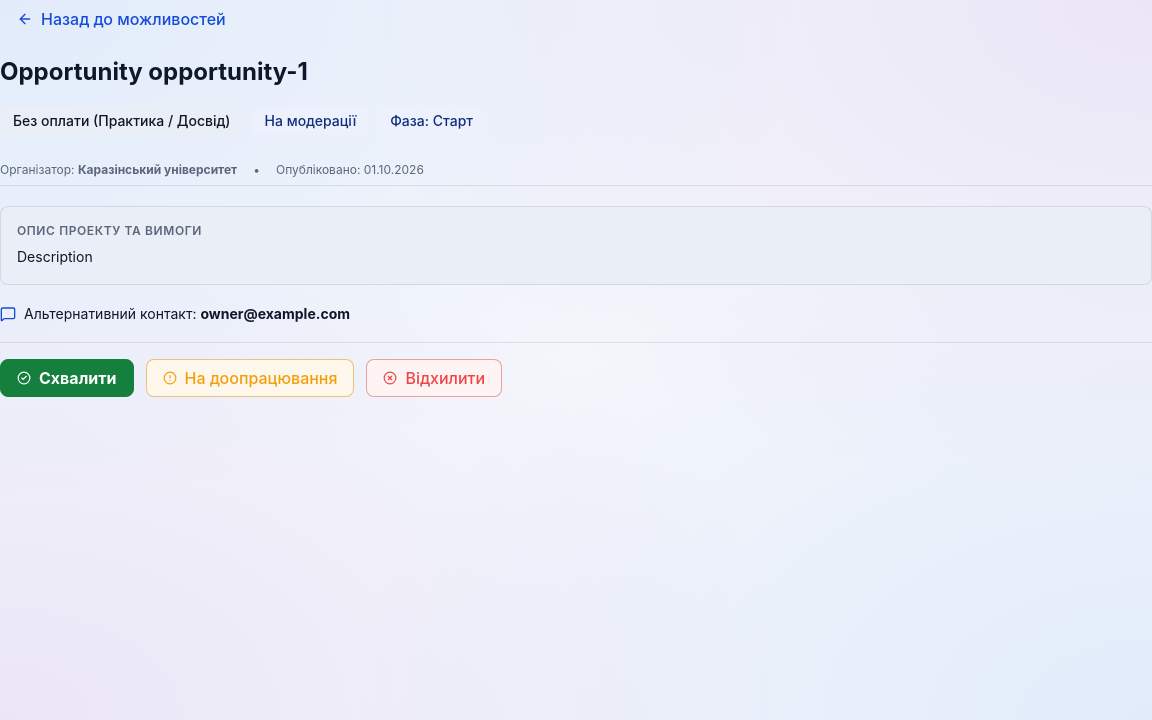
Test: opportunity detail moderation › should refresh the detail status and remove moderation actions after REQUIRE_CHANGES
The image size is (1152, 720).
Click the button "На доопрацювання": x=250, y=378 [146, 359, 354, 397]
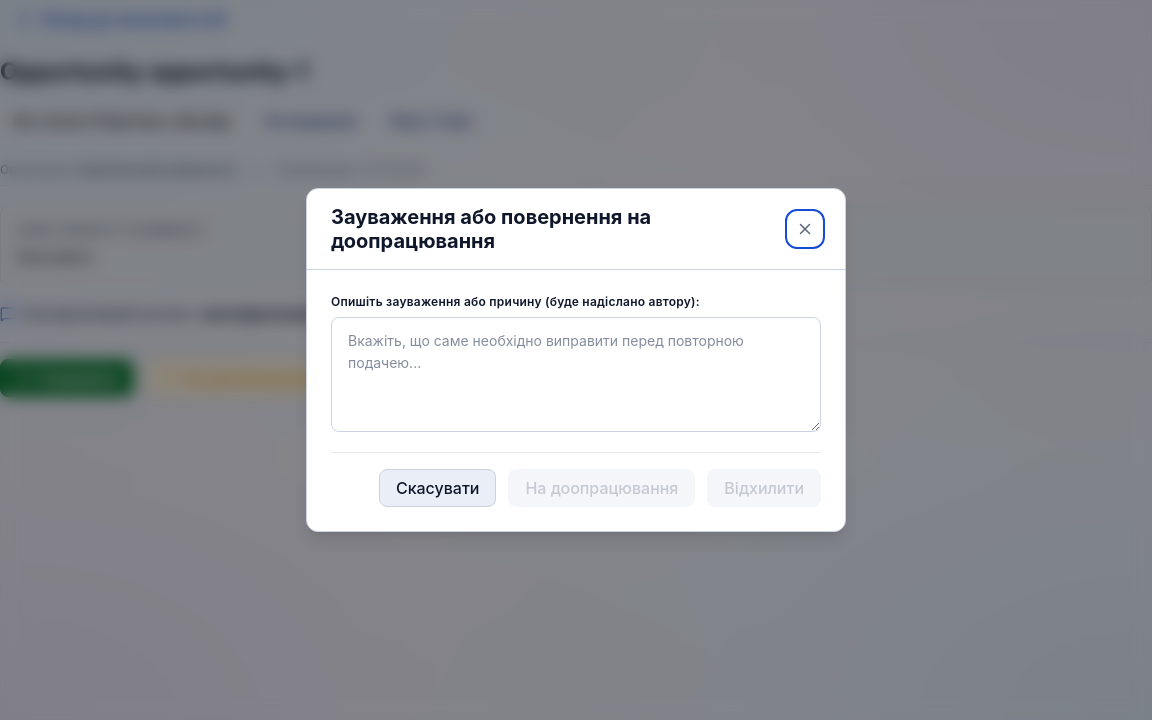
In the text box: x=576, y=374 [331, 317, 821, 432], type "Reason"
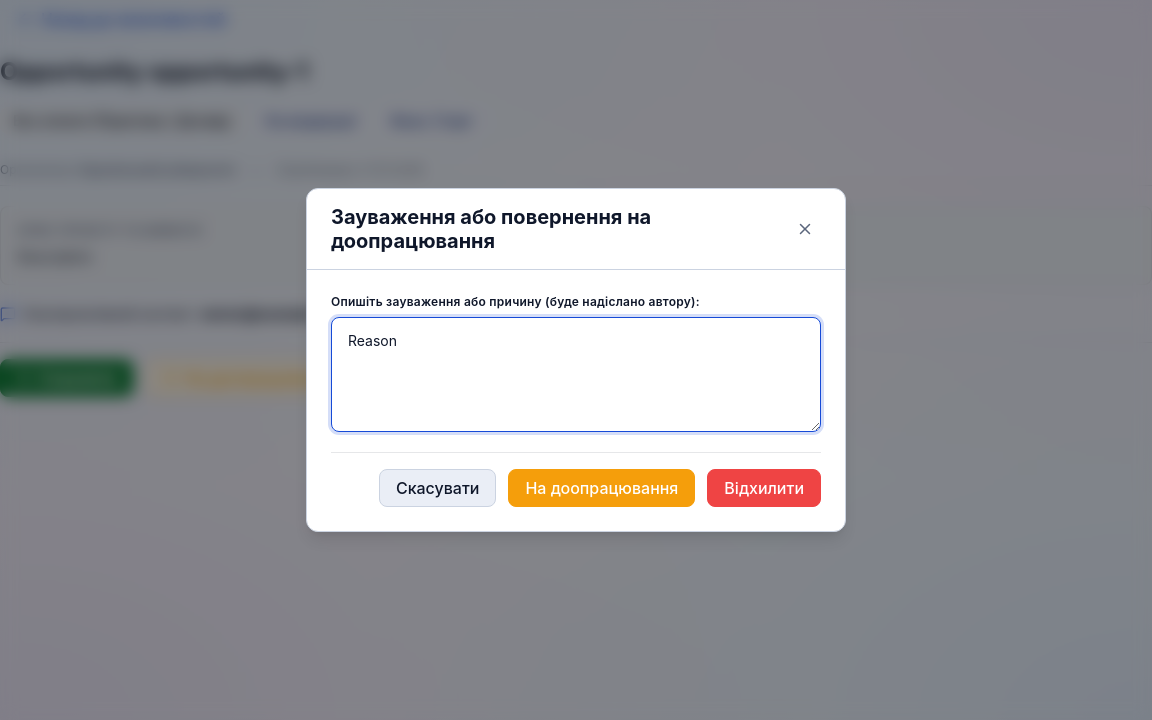
Click the button "На доопрацювання": x=602, y=488 [508, 469, 695, 507]
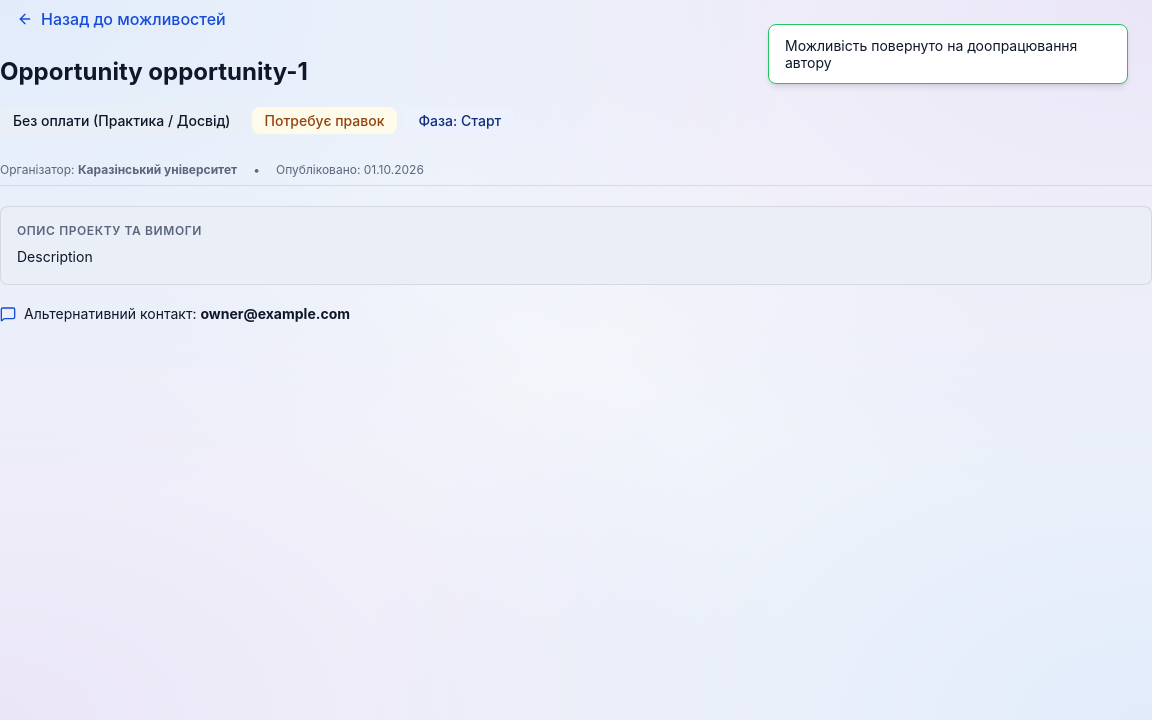
expect the button "Відхилити" is not shown: met
expect the text "Потребує правок" is shown: met, box [252, 107, 397, 134]
expect the button "Схвалити" is gone: met
